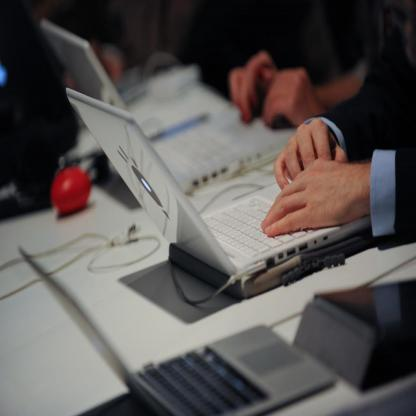board: (66, 85, 370, 280), (17, 246, 338, 416), (41, 23, 291, 194)
